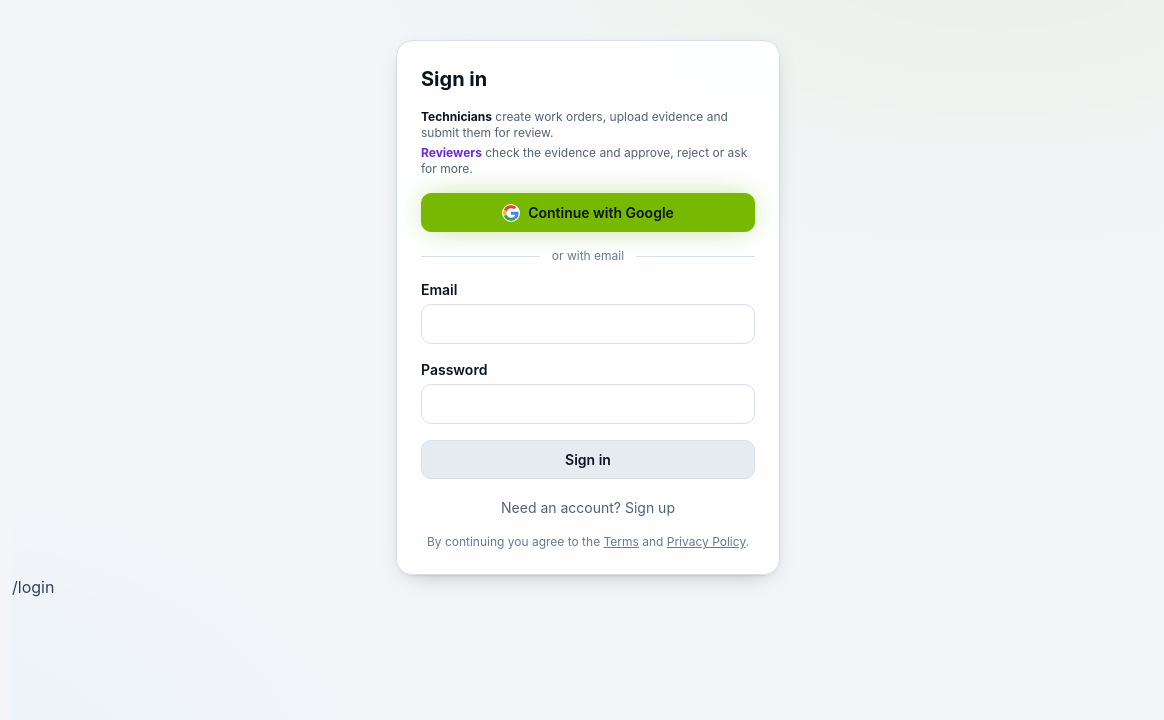
Test case: sign-in redirect › keeps a wrong password on the sign-in page with a plain message
The image size is (1164, 720).
Type "tech@example.com" into the field labelled "Email" at (588, 324), box [421,304,755,344]
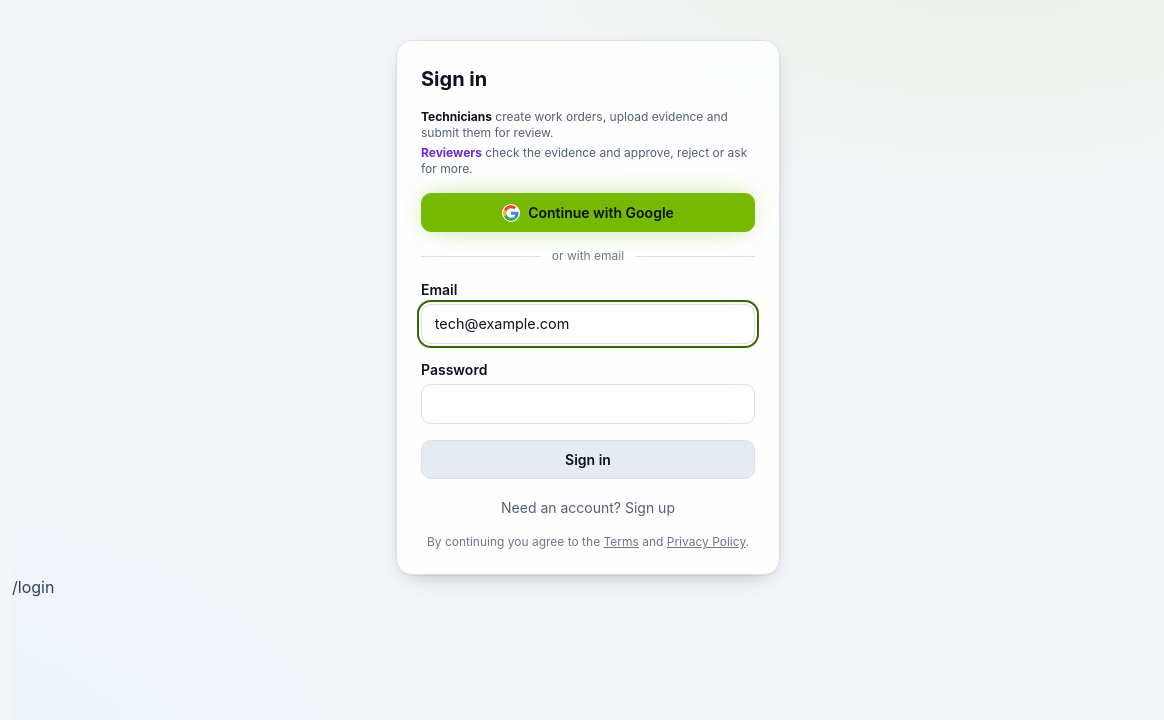
Type "wrong-password1" into the password field labelled "Password" at (588, 404), box [421,384,755,424]
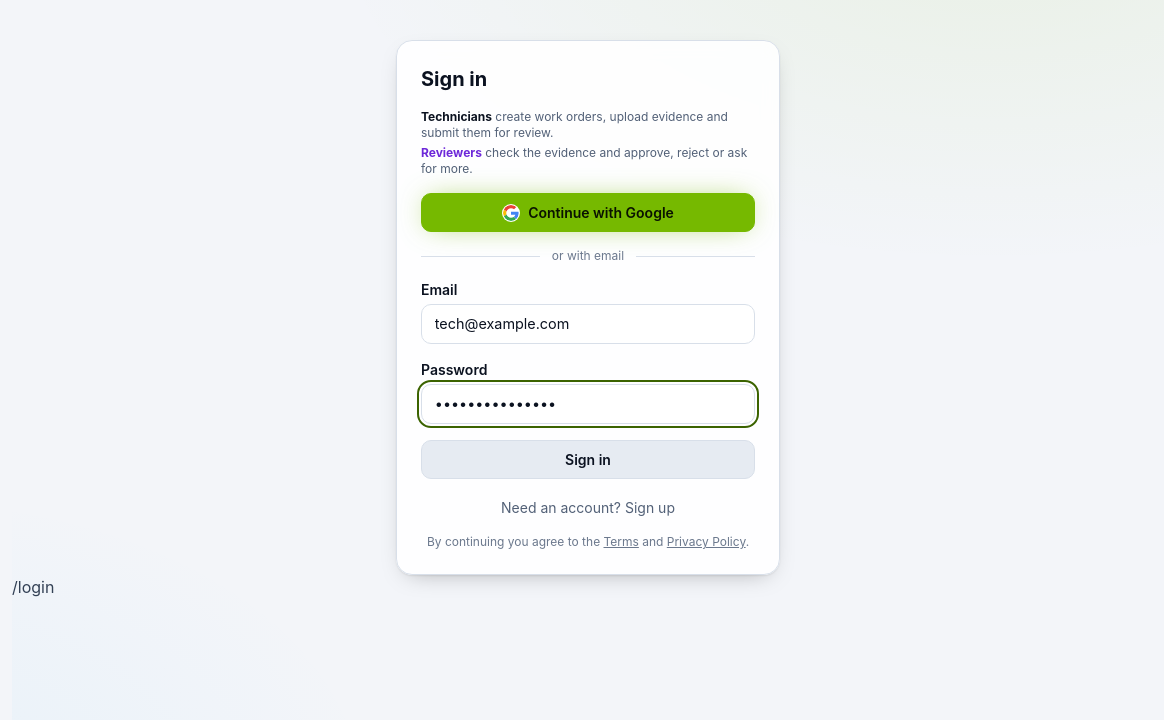
Click the button "Sign in" at (588, 460), box [421,440,755,479]
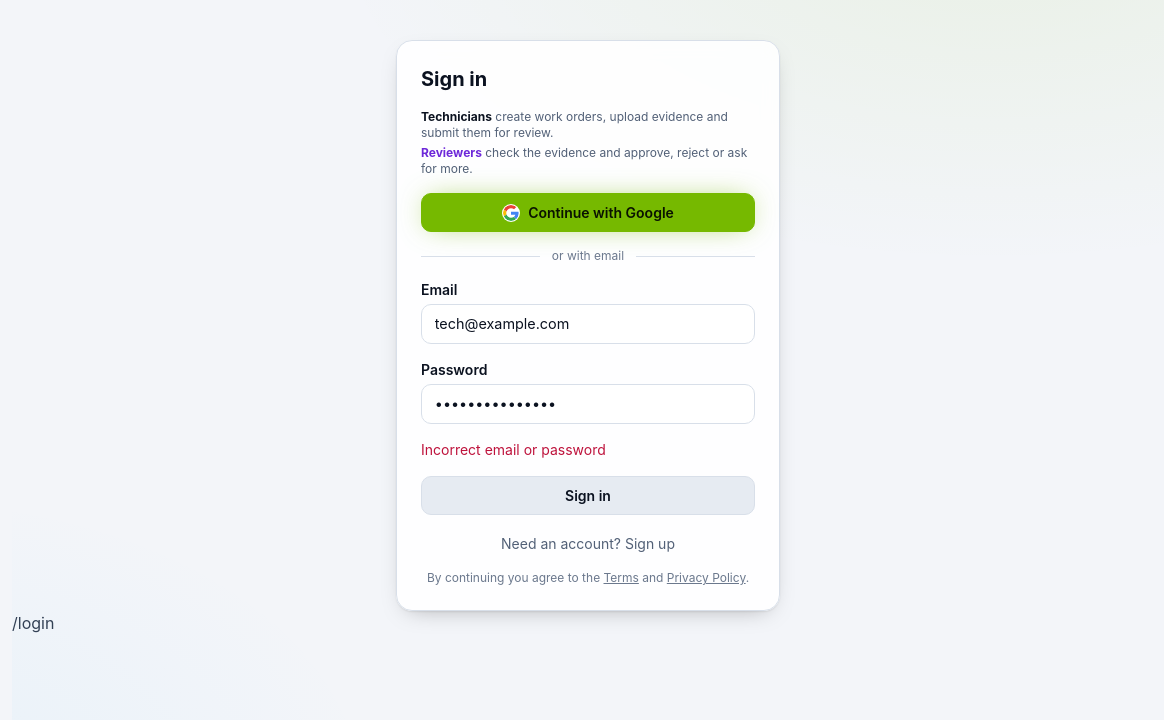
Expected: the text with test id "where" reads "/login", [12,613,54,633]
Expected: the text "Incorrect email or password" is shown, [421,441,606,458]
